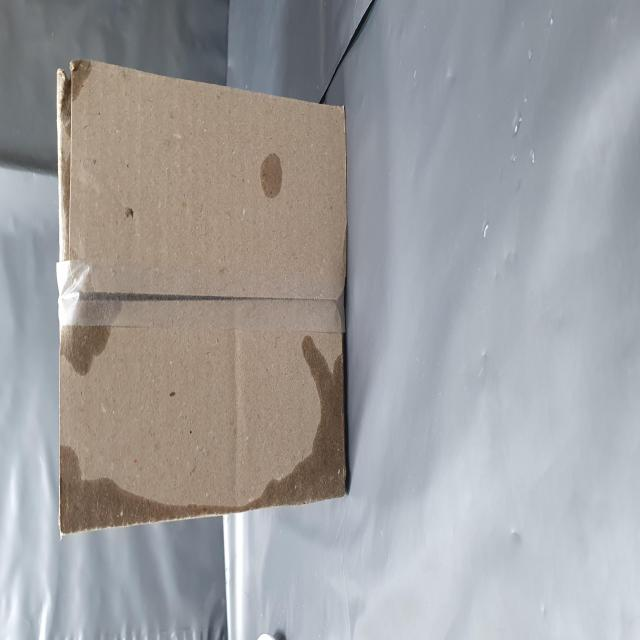wet: (62, 104, 178, 254), (72, 457, 172, 626), (242, 451, 282, 517)
